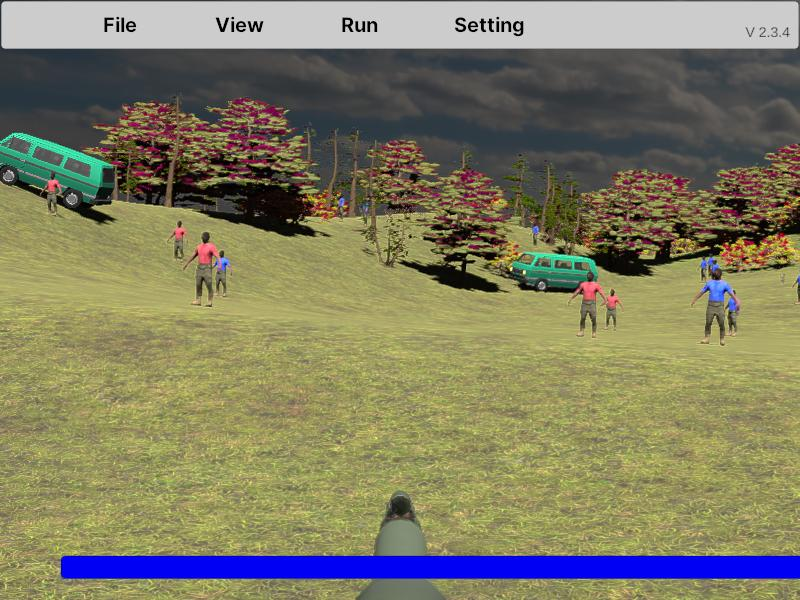Human: (692, 268, 734, 345), (185, 232, 219, 306), (569, 272, 607, 337), (213, 249, 233, 299), (42, 172, 63, 217), (603, 288, 624, 332), (167, 219, 188, 263), (722, 290, 740, 338), (792, 264, 800, 305)
car: (0, 132, 116, 211), (511, 252, 599, 293)
